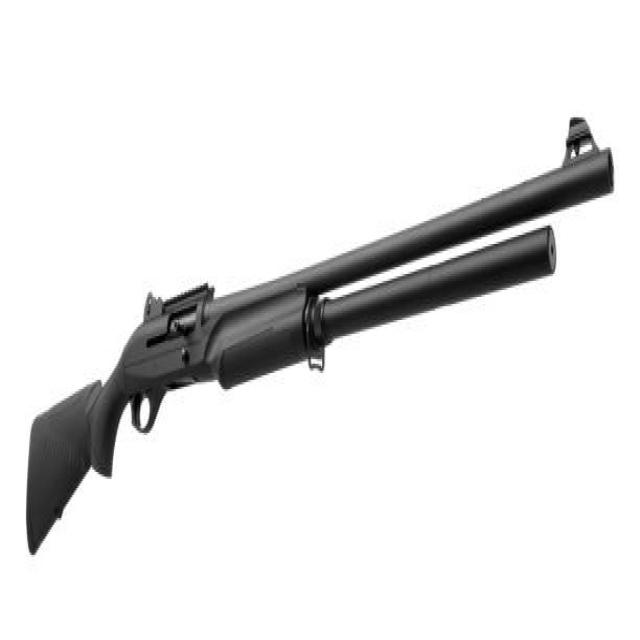rifle: (18, 105, 618, 561)
